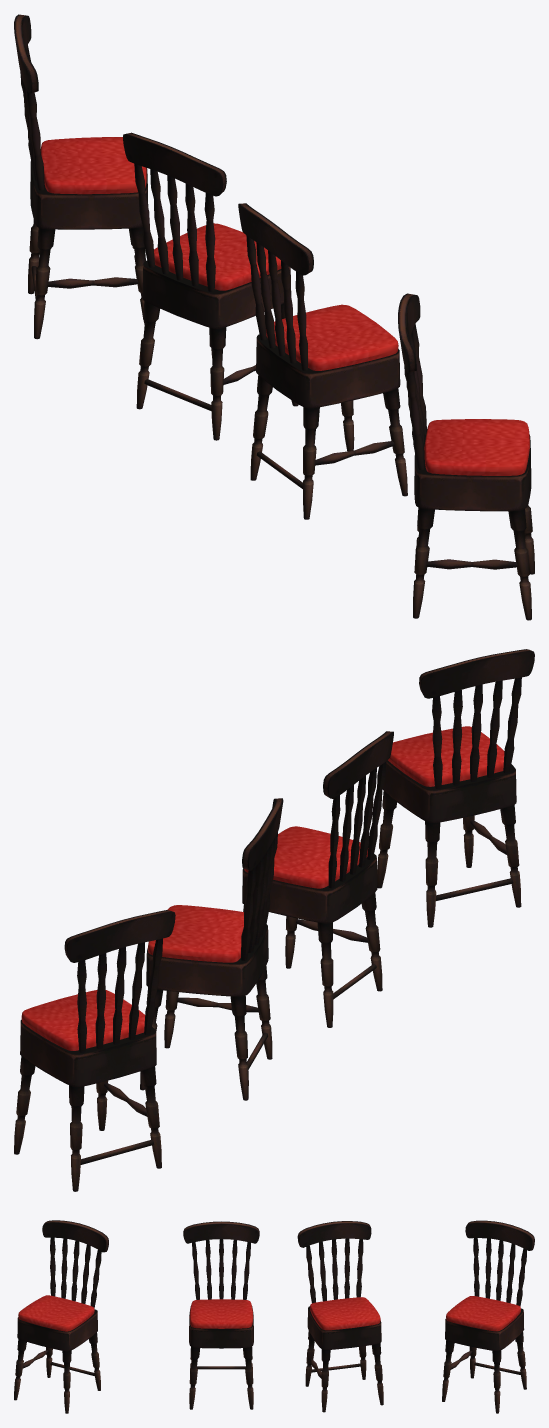
File: sillas.obj
3 renders of one model, top to bottom at view 1: azimuth 30°, elevation 25°; view 2: azimuth 150°, elevation 25°; view 3: azimuth 270°, elevation 25°, orthographic. The views are drawn at different scales.
Parts seen in each view (by area): view 1: silla.002; view 2: silla.002; view 3: silla.002.
Boxes of the visible parts, <box> form: silla.002: <box>14,14,534,620</box>; silla.002: <box>14,649,534,1191</box>; silla.002: <box>14,1220,534,1413</box>.
Bounding box in the file's own units: 2.43 × 4.42 × 13.34.
2 materials, 2 textured.
